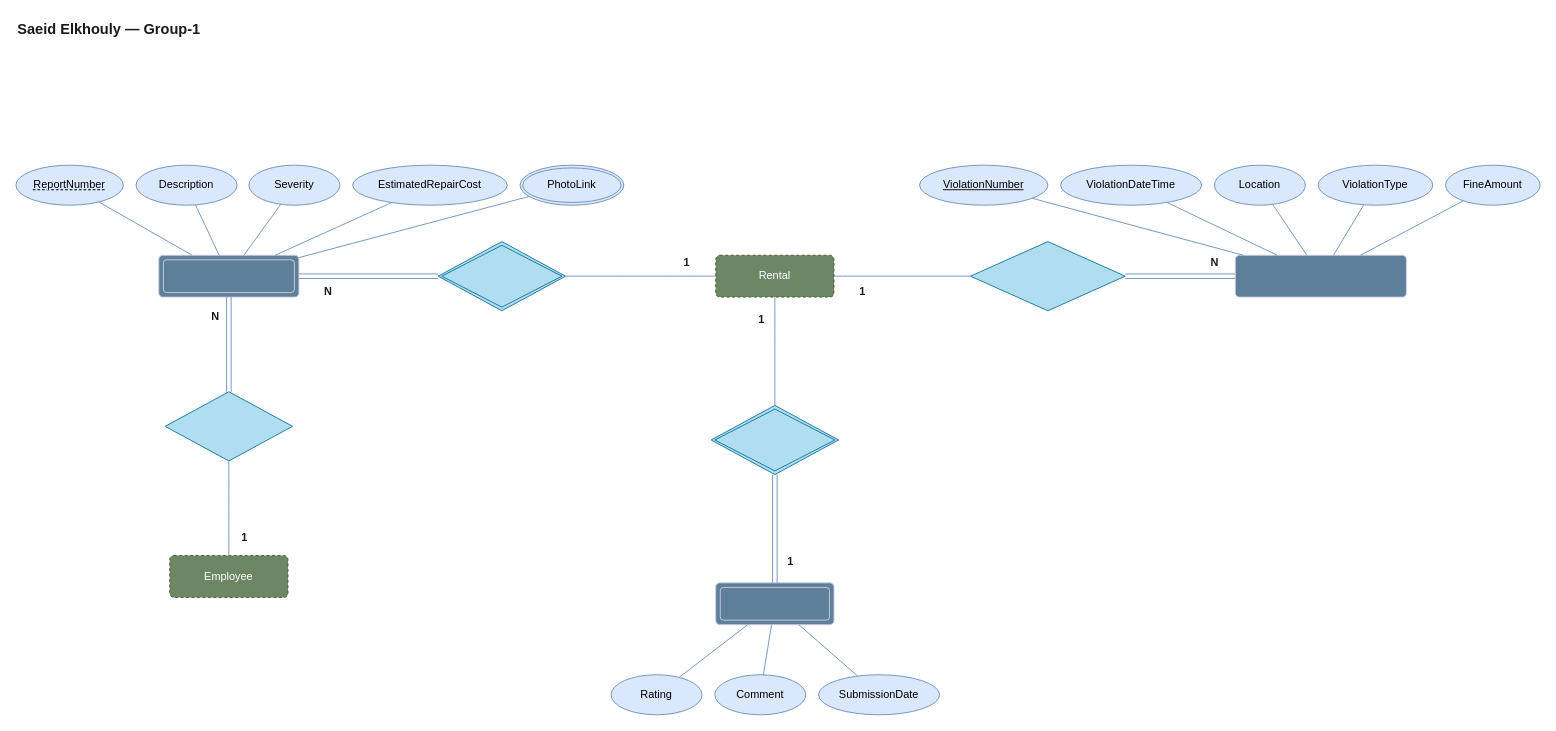
This 1556x731 diagram has some shape labels left out. Here are the shapes that lost their labels. From the top down, the box of each, then its label:
(158, 254, 299, 297): Damage_Report
(437, 241, 566, 311): Has damage
(970, 241, 1125, 311): Occurred during
(1234, 254, 1406, 297): Traffic_Violation
(164, 391, 293, 461): Reported by
(710, 404, 839, 475): Receives
(715, 582, 834, 625): Feedback
